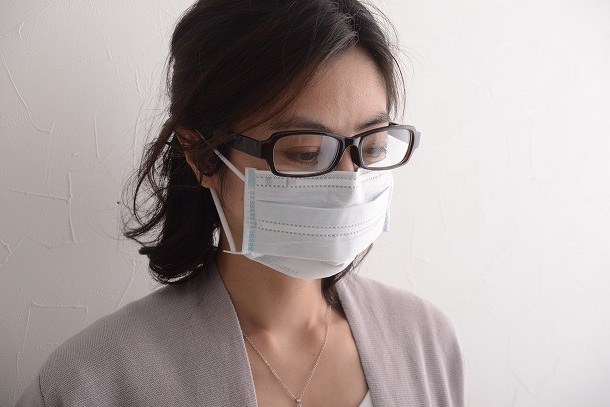mask: (242, 164, 405, 289)
